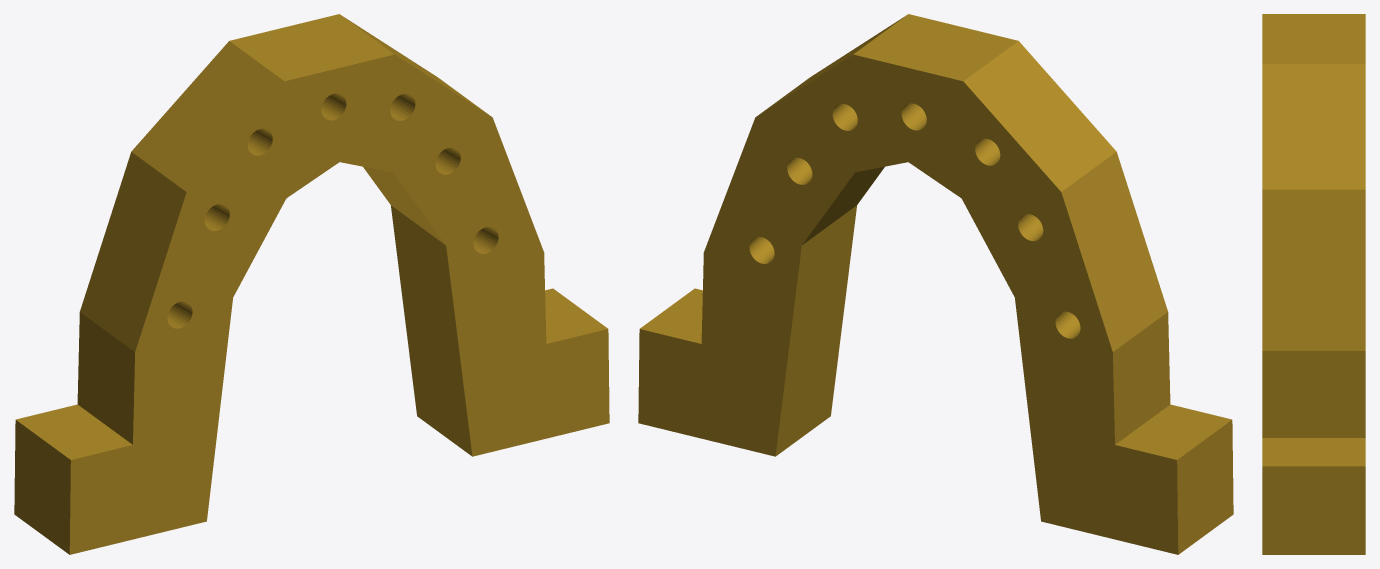
The model's file is gold_horseshoe.glb.
3 views of the same model, side by side, from view 1: azimuth 30°, elevation 25°; view 2: azimuth 150°, elevation 25°; view 3: azimuth 270°, elevation 25° (orthographic). The views are drawn at different scales.
Visible parts, largest first — view 1: Cube; view 2: Cube; view 3: Cube.
Part boxes in pixels (box(x1,y1,x2,y2)): Cube: box(14, 14, 609, 554); Cube: box(638, 14, 1233, 554); Cube: box(1262, 14, 1365, 554).
Bounding box in the file's own units: 3.38 × 2.52 × 0.6.
